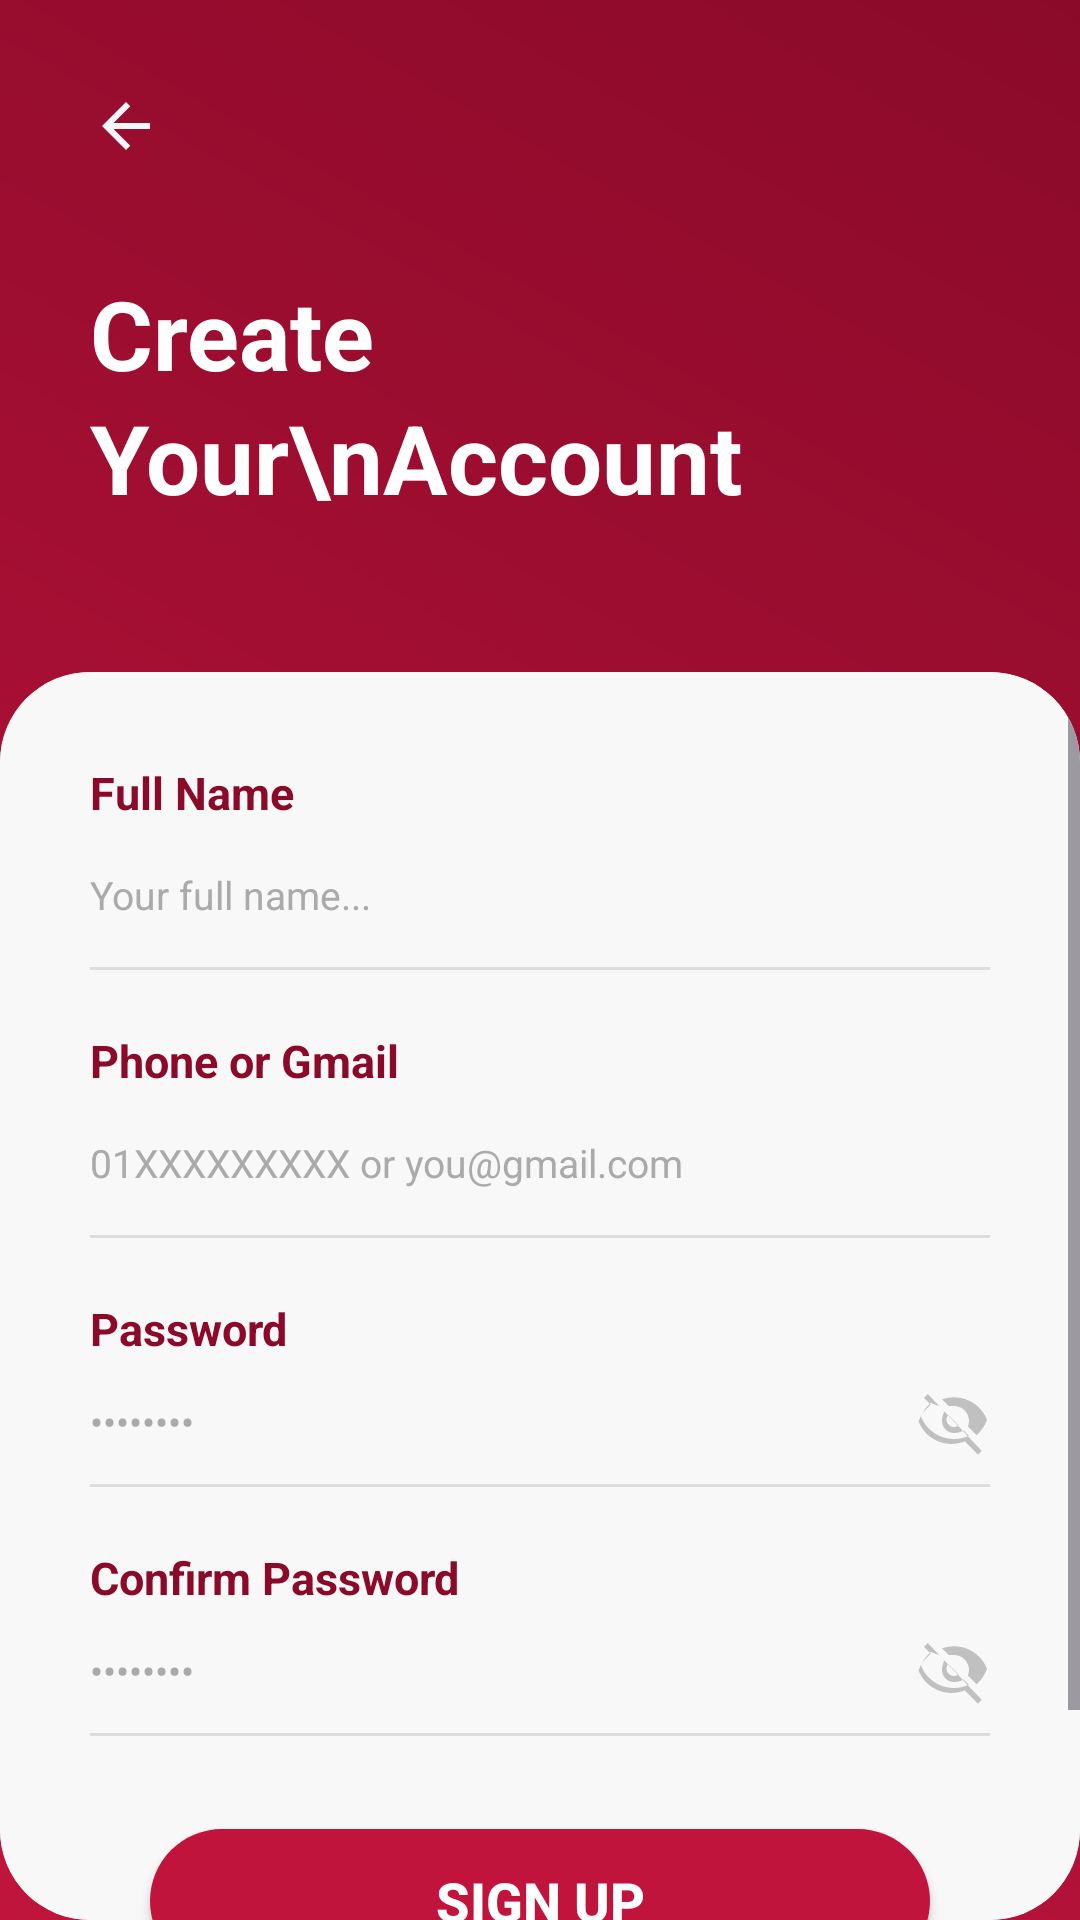

Screen size 1080w x 1920h. Icon name, then its box in pixels as {"left": x1, "top": y1, "right": x2, "bottom": y2}:
Back: {"left": 102, "top": 102, "right": 150, "bottom": 150}
eye close: {"left": 919, "top": 1394, "right": 987, "bottom": 1454}, {"left": 919, "top": 1643, "right": 987, "bottom": 1703}
